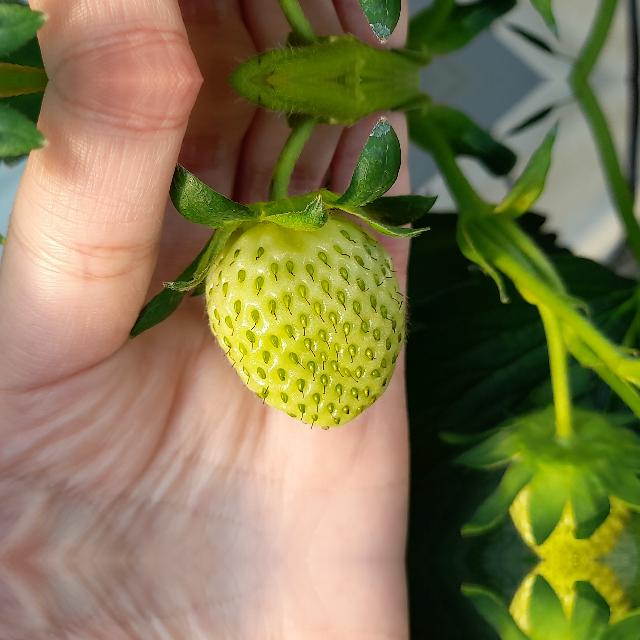Health_25: (204, 212, 410, 430), (497, 411, 639, 559), (497, 561, 639, 640)
